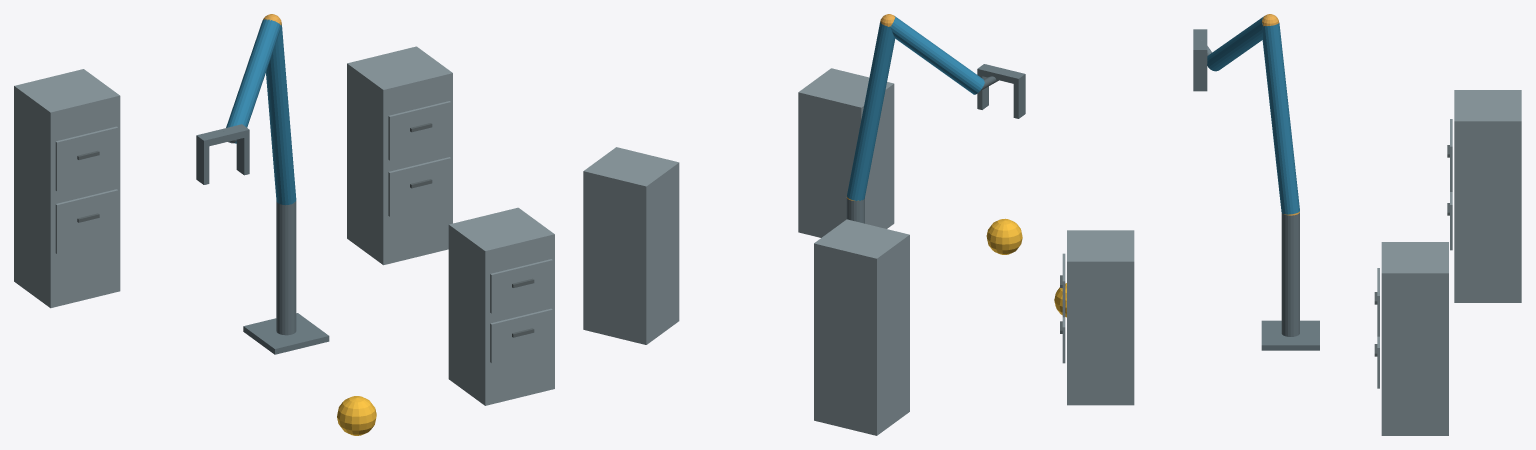
3 renders of one model, left to right at view 1: azimuth 30°, elevation 25°; view 2: azimuth 150°, elevation 25°; view 3: azimuth 270°, elevation 25°, orthographic. The views are drawn at different scales.
Parts seen in each view (by area): view 1: cabinet_3 body, cabinet_2 body, cabinet_1 body, moving link 1, cabinet_3 drawer front.001, cabinet_3 drawer front, cabinet_2 drawer front, cabinet_2 drawer front.001, fixed post, cabinet_1 drawer front, cabinet_1 drawer front.001, moving link 2 (+4 smaller); view 2: cabinet_3 body, cabinet_2 body, cabinet_1 body, moving link 1, moving link 2, ball ball_1, gripper bridge, gripper finger -1; view 3: cabinet_3 body, cabinet_2 body, cabinet_1 body, moving link 1, fixed post, pedestal, moving link 2, gripper finger 1.
Part boxes in pixels (x1,y1,x2,y2): cabinet_3 body: [14, 69, 120, 308]; cabinet_2 body: [347, 46, 452, 265]; cabinet_1 body: [448, 207, 554, 405]; moving link 1: [266, 24, 296, 205]; cabinet_3 drawer front.001: [55, 126, 118, 191]; cabinet_3 drawer front: [55, 189, 118, 253]; cabinet_2 drawer front: [388, 157, 450, 216]; cabinet_2 drawer front.001: [388, 101, 450, 160]; fixed post: [276, 201, 296, 335]; cabinet_1 drawer front: [490, 308, 552, 363]; cabinet_1 drawer front.001: [490, 259, 552, 313]; moving link 2: [226, 19, 280, 143]; cabinet_3 body: [814, 219, 909, 435]; cabinet_2 body: [583, 147, 679, 344]; cabinet_1 body: [798, 68, 894, 237]; moving link 1: [847, 22, 895, 200]; moving link 2: [890, 16, 984, 94]; ball ball_1: [986, 218, 1022, 254]; gripper bridge: [977, 64, 1025, 84]; gripper finger -1: [1013, 80, 1025, 118]; cabinet_3 body: [1454, 90, 1521, 302]; cabinet_2 body: [1381, 242, 1448, 435]; cabinet_1 body: [1067, 230, 1134, 405]; moving link 1: [1262, 23, 1299, 214]; fixed post: [1281, 212, 1299, 336]; pedestal: [1261, 320, 1319, 350]; moving link 2: [1207, 16, 1263, 71]; gripper finger 1: [1193, 56, 1207, 91].
Size of the model in its own units: 1.67 by 1.48 by 2.01.
